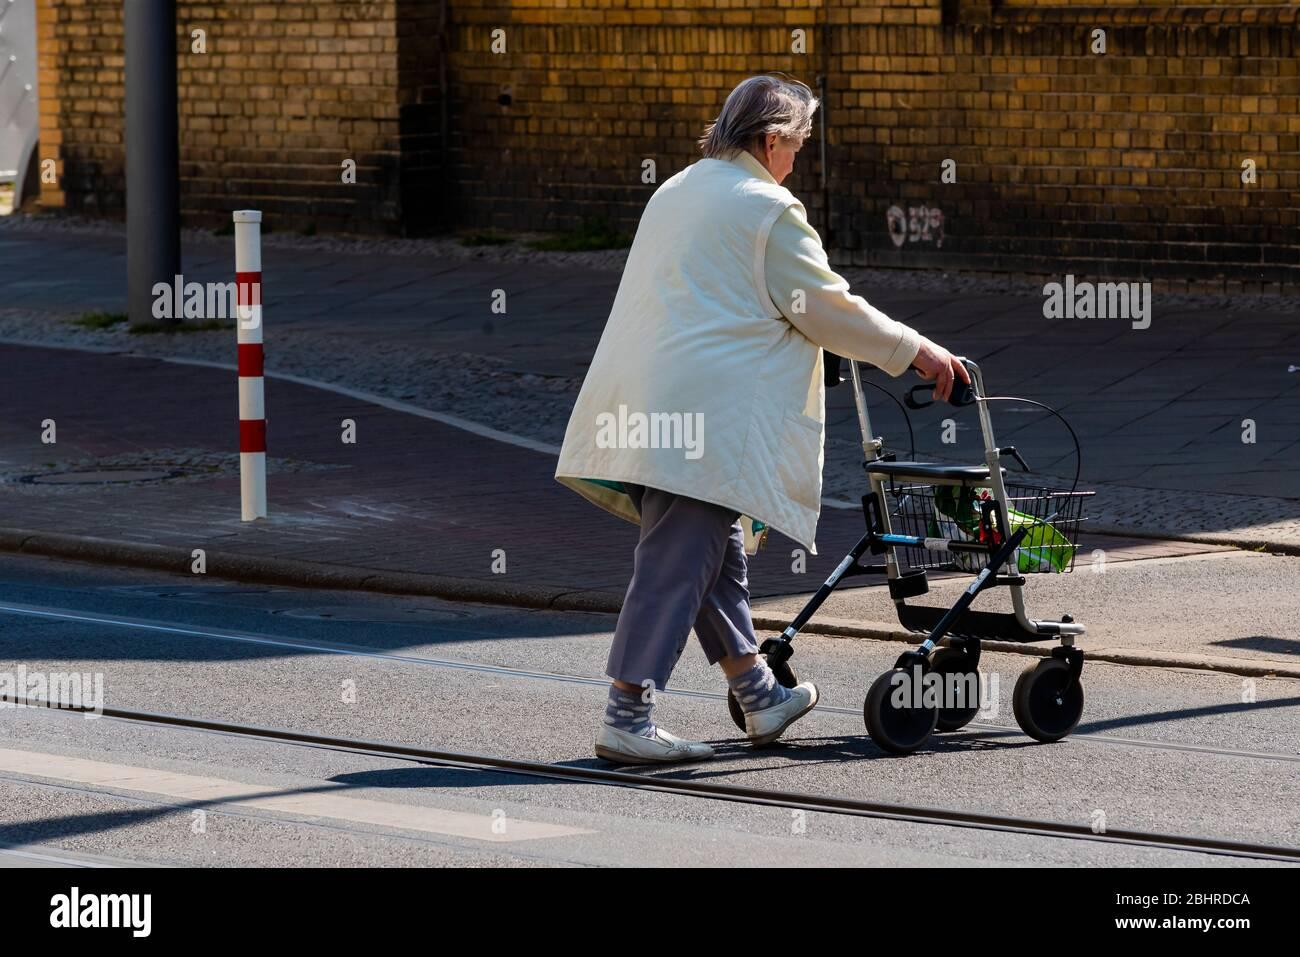walking_frame: (555, 76, 1097, 767)
